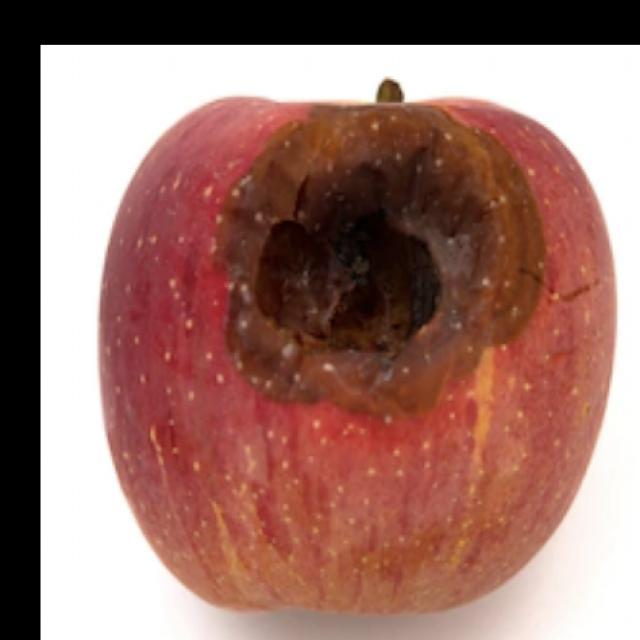Rotten: (126, 97, 622, 615)
